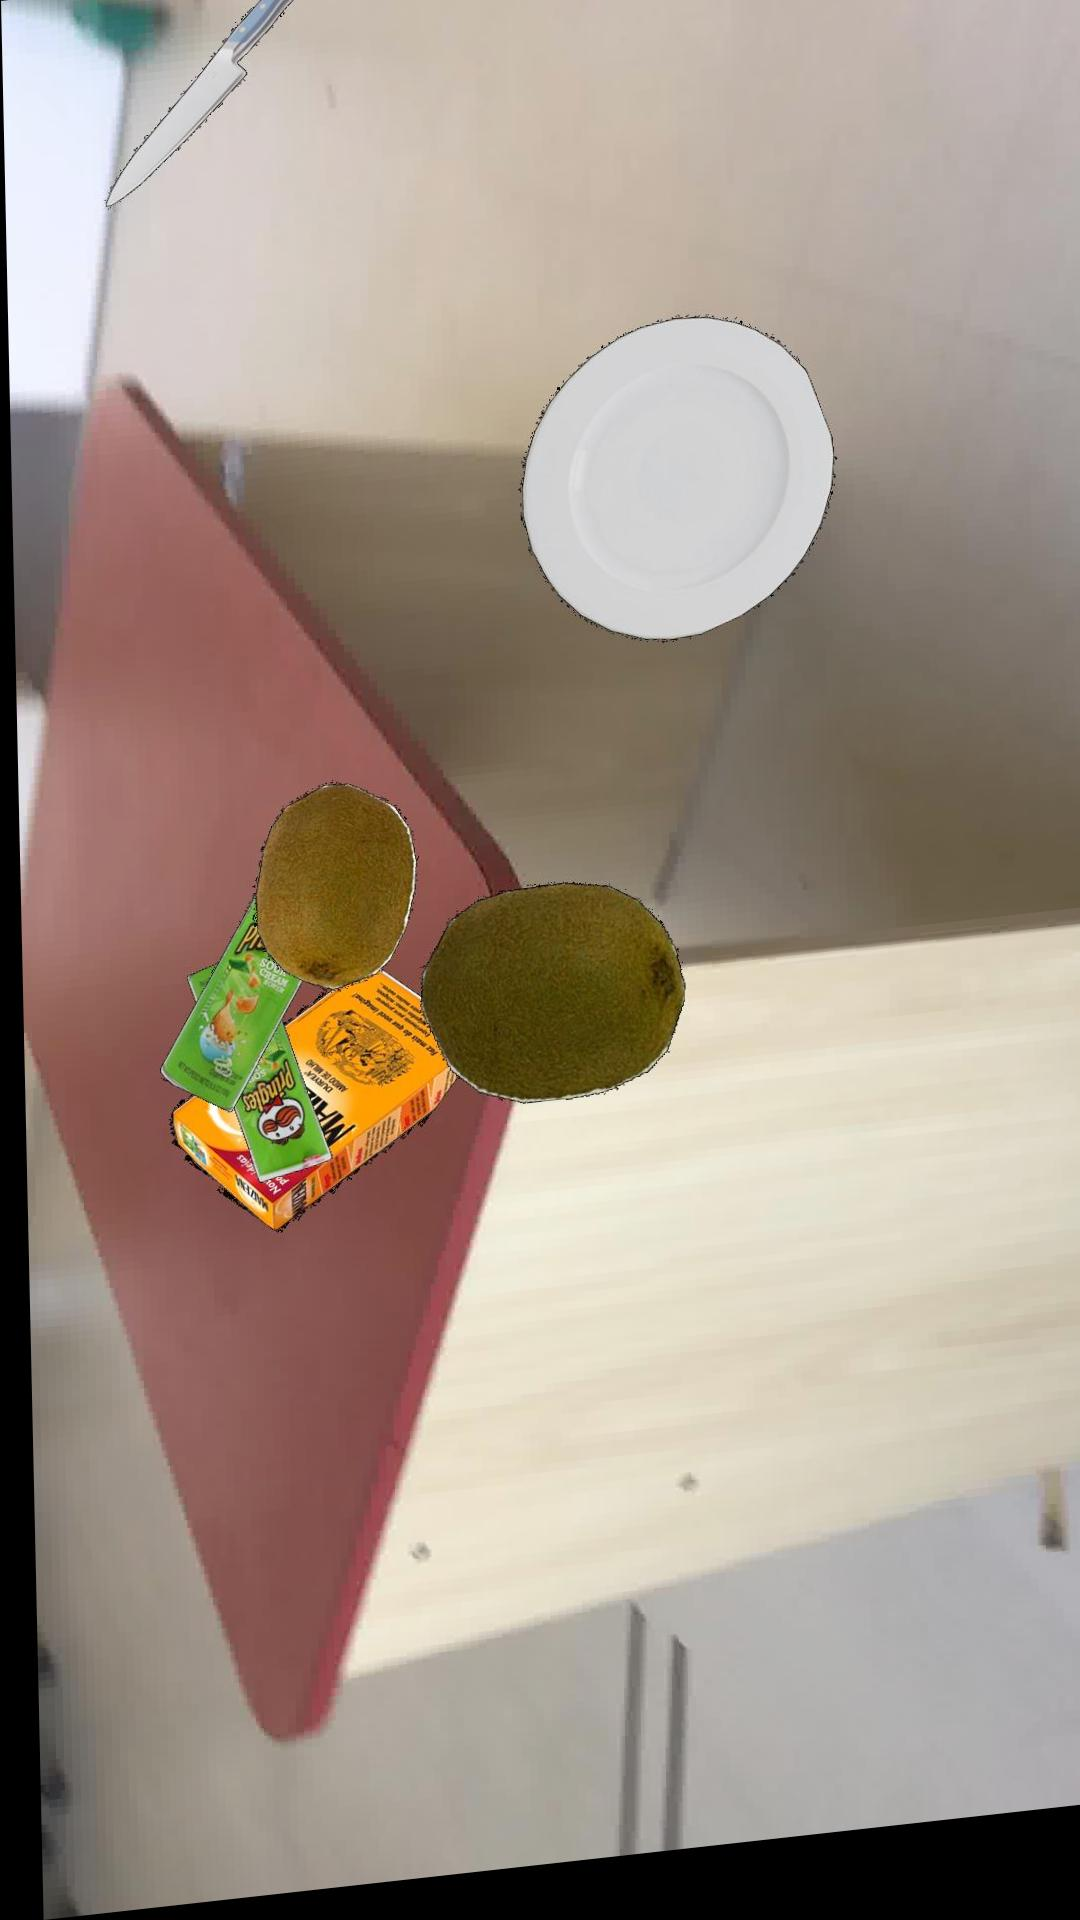kiwi: (415, 891, 680, 1113), (251, 789, 414, 996)
knife: (105, 0, 298, 207)
plate: (518, 330, 835, 654)
pringles: (156, 898, 298, 1114)
